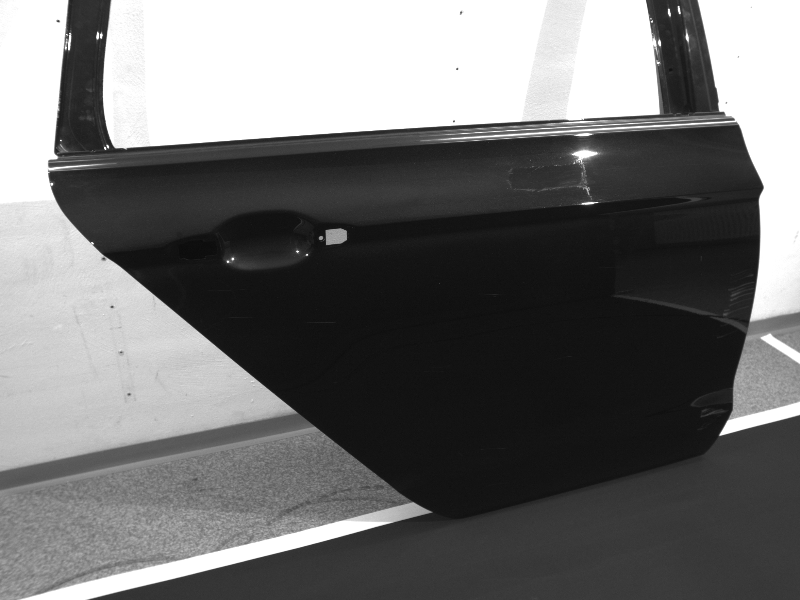scratch: (717, 270, 757, 339), (697, 406, 729, 431), (213, 287, 247, 293), (229, 315, 255, 320), (307, 321, 337, 325), (482, 293, 502, 297)
